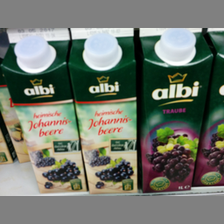juice: (2, 29, 87, 193), (137, 28, 213, 194), (69, 28, 142, 193)
